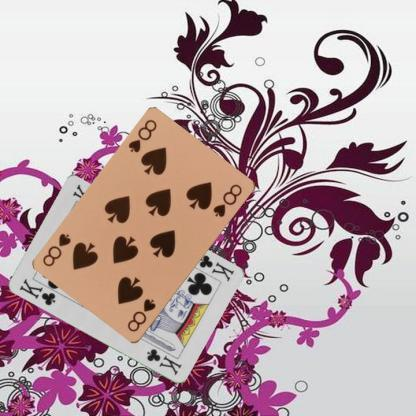8s: (124, 296, 157, 334), (126, 117, 158, 155)
Kc: (196, 252, 236, 283), (17, 276, 57, 307)
